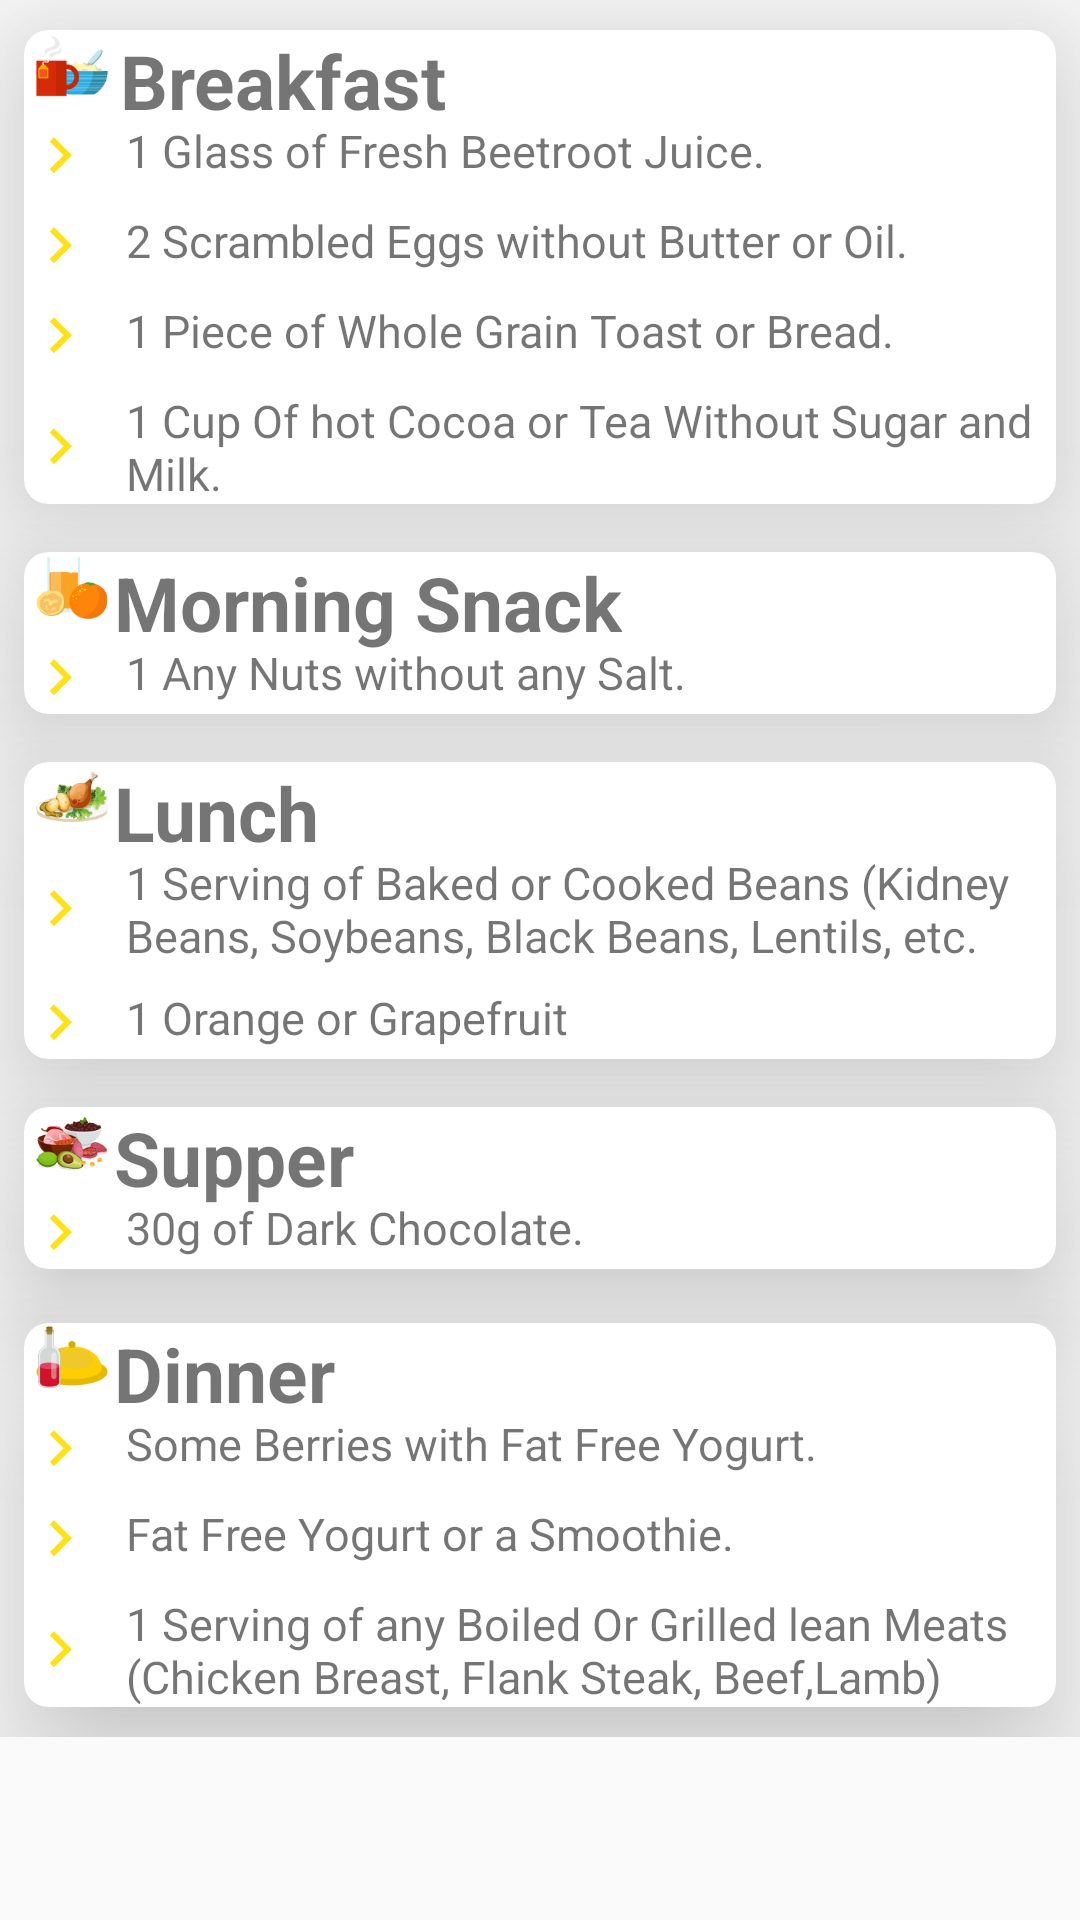

Named icons in this screenshot (1080px x 1920px) and their bounding boxes, (x1, y1, x2, y2):
snacks: (36, 557, 108, 619)
